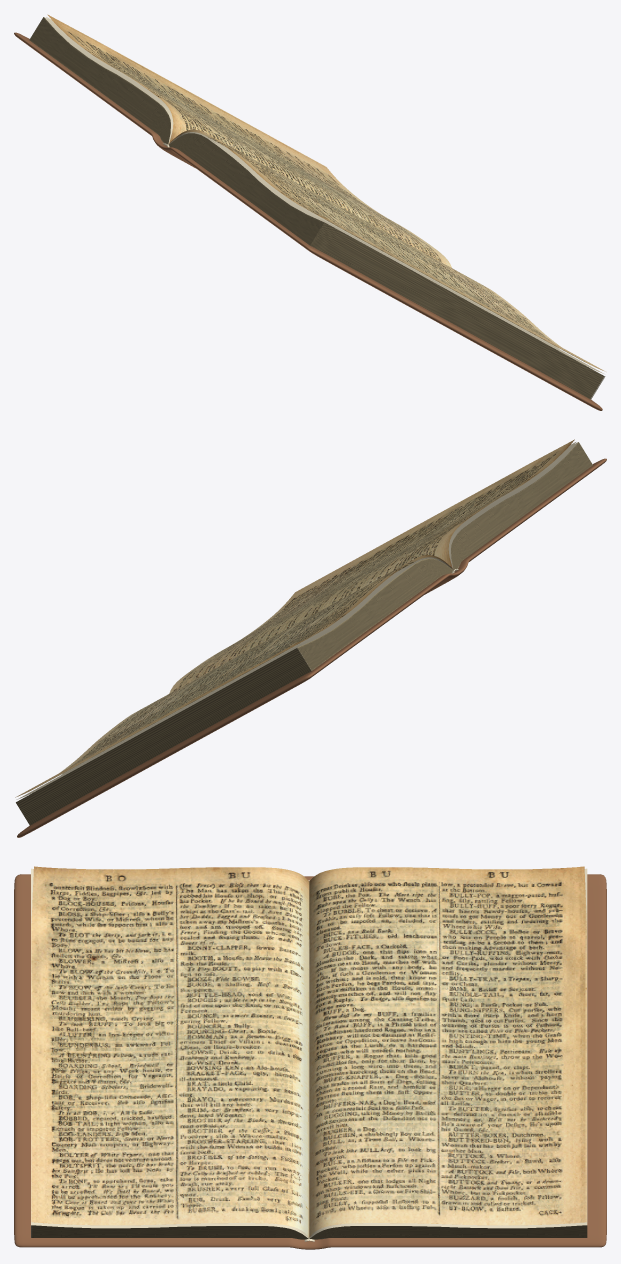
File: BOOK.gltf
3 views of the same model, one above another, from view 1: azimuth 30°, elevation 25°; view 2: azimuth 150°, elevation 25°; view 3: azimuth 270°, elevation 25° (orthographic).
Parts seen in each view (by area): view 1: page_top_right, Side_left, page_top_left, lower_right, Book_Cover_base, lower_left, page_top_left_2, page_top_right_2; view 2: page_top_left, side_right, page_top_right, Book_Cover_base, lower_left, lower_right, page_top_right_2, page_top_left_2; view 3: page_top_left, page_top_right, Book_Cover_base, lower_right, lower_left, page_top_left_2, page_top_right_2.
Part boxes in pixels (x1,y1,x2,y2): page_top_right: (47, 14, 451, 267); Side_left: (310, 222, 605, 399); page_top_left: (168, 129, 605, 371); lower_right: (29, 17, 171, 144); Book_Cover_base: (14, 32, 602, 410); lower_left: (169, 133, 324, 245); page_top_left_2: (168, 132, 603, 373); page_top_right_2: (46, 17, 173, 144); page_top_left: (169, 439, 574, 693); side_right: (16, 648, 311, 825); page_top_right: (15, 555, 453, 797); Book_Cover_base: (17, 458, 606, 837); lower_left: (450, 442, 592, 569); lower_right: (297, 558, 452, 670); page_top_right_2: (16, 557, 452, 799); page_top_left_2: (448, 442, 575, 569); page_top_left: (31, 866, 309, 1237); page_top_right: (308, 866, 586, 1237); Book_Cover_base: (14, 874, 606, 1249); lower_right: (309, 868, 587, 1239); lower_left: (31, 868, 308, 1239); page_top_left_2: (31, 1222, 307, 1236); page_top_right_2: (310, 1222, 586, 1236).
Bounding box in the file's own units: 1.39 × 1.11 × 2.34.
Materials: 7 (5 with a texture image).
